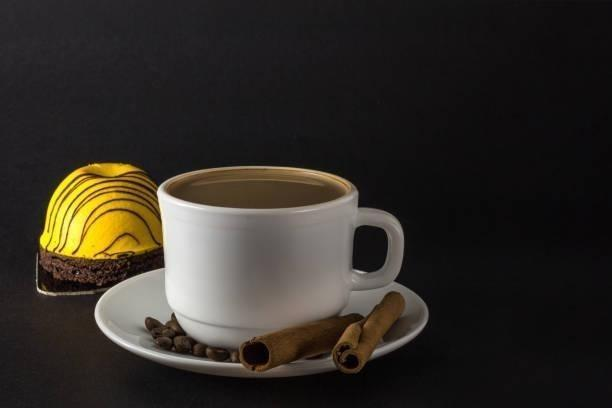cup-handle: (157, 163, 405, 350)
